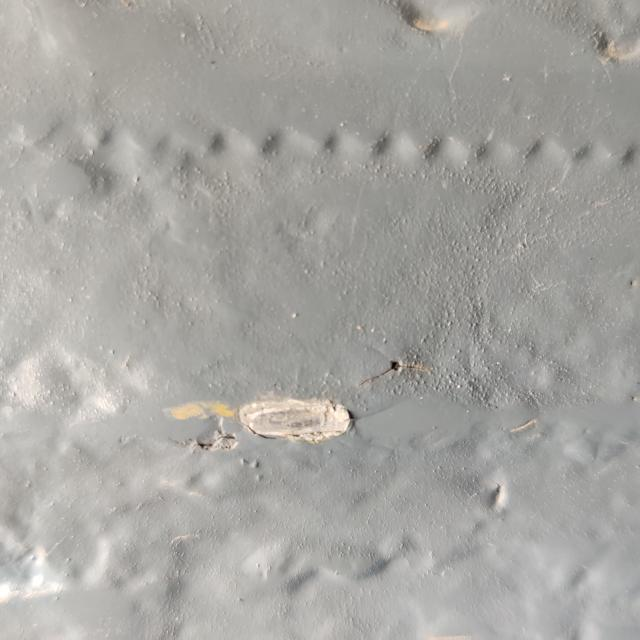crack: (349, 348, 436, 395)
paint-off: (153, 386, 361, 474)
